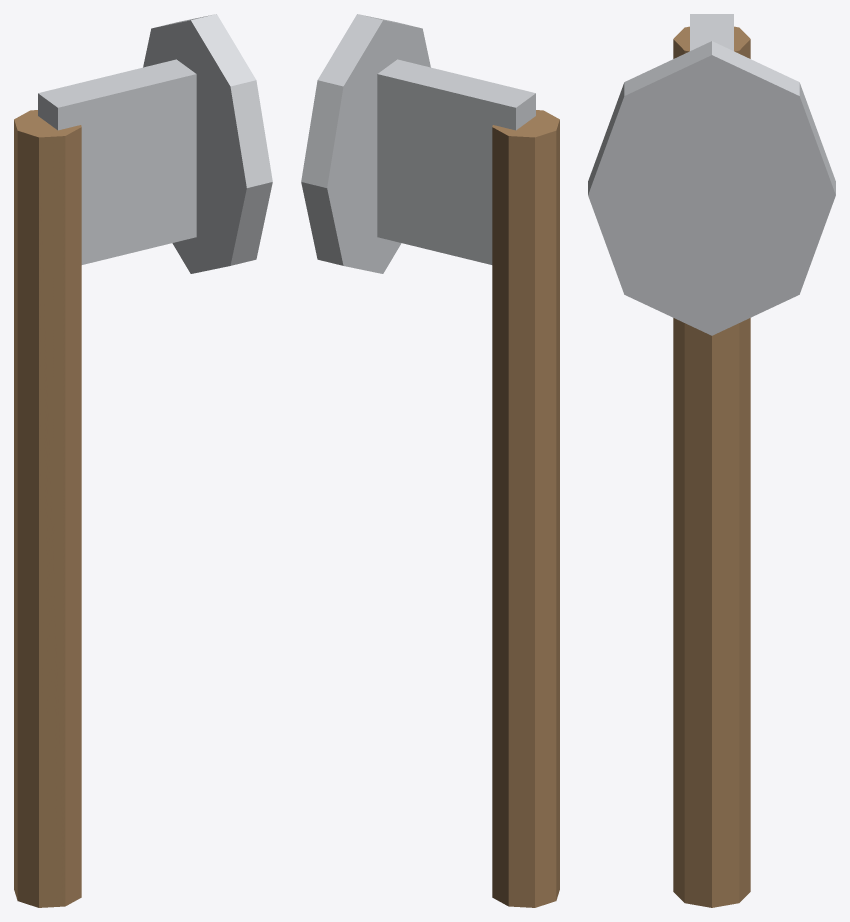
File: axe.glb
The picture shows the model from 3 angles, left to right: view 1: azimuth 30°, elevation 25°; view 2: azimuth 150°, elevation 25°; view 3: azimuth 270°, elevation 25°; orthographic projection. The views are drawn at different scales.
Visible parts, largest first — view 1: AxeHaft, AxeBlade, Cylinder; view 2: AxeHaft, AxeBlade, Cylinder; view 3: Cylinder, AxeHaft, AxeBlade.
Part boxes in pixels (x1=…): AxeHaft: x1=14, y1=110, x2=81, y2=907; AxeBlade: x1=38, y1=59, x2=196, y2=264; Cylinder: x1=143, y1=14, x2=272, y2=273; AxeHaft: x1=492, y1=110, x2=559, y2=907; AxeBlade: x1=377, y1=59, x2=535, y2=264; Cylinder: x1=301, y1=14, x2=430, y2=273; Cylinder: x1=588, y1=41, x2=835, y2=335; AxeHaft: x1=673, y1=26, x2=750, y2=907; AxeBlade: x1=690, y1=14, x2=733, y2=50.
Size of the model in its own units: 0.23 by 0.925 by 0.224.
